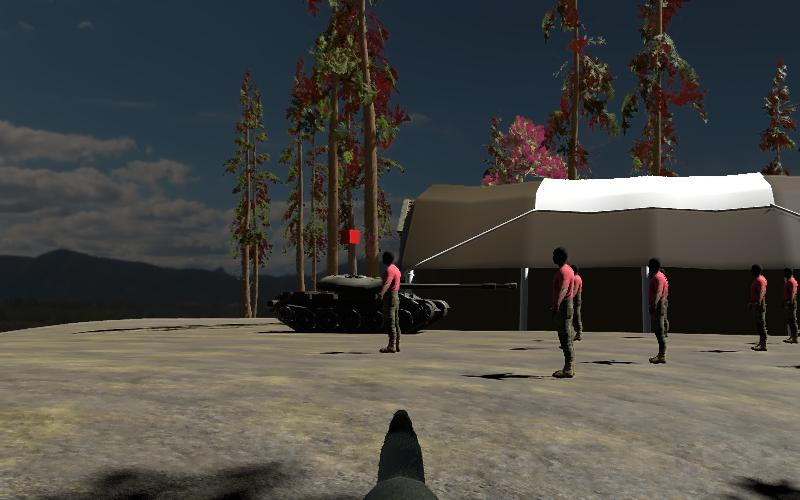Human: (549, 245, 577, 379), (644, 257, 671, 366), (645, 255, 671, 366), (378, 250, 404, 358), (747, 261, 770, 353), (567, 261, 588, 343), (784, 266, 800, 344)
